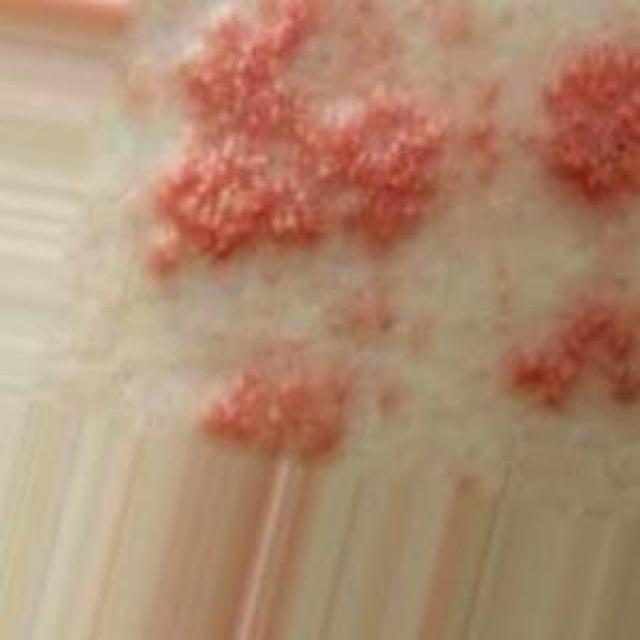Shingles: (145, 0, 447, 283), (539, 36, 640, 200), (198, 368, 349, 457), (510, 306, 640, 408)
